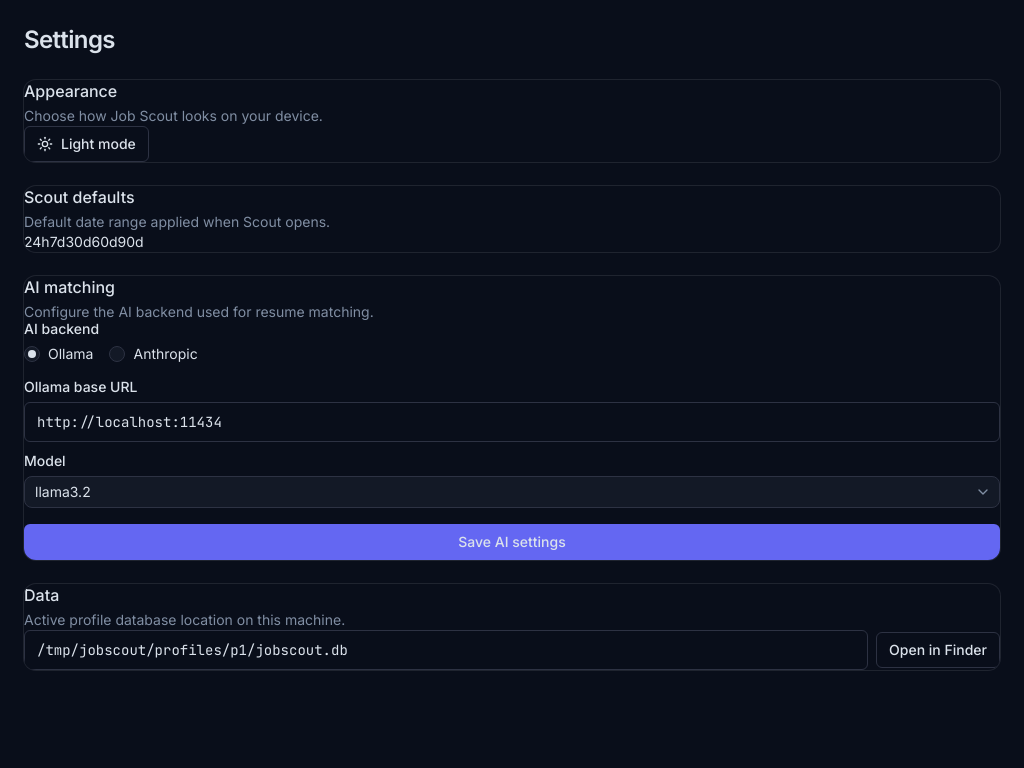
it: SettingsScreen › hides Ollama fields when backend is anthropic
The width and height of the screenshot is (1024, 768).
Check: the field labelled "Ollama base URL" is shown, box [24,402,1000,442]
Click the radio button named "Anthropic" next to "Anthropic": (118, 354) [110,346,126,362]
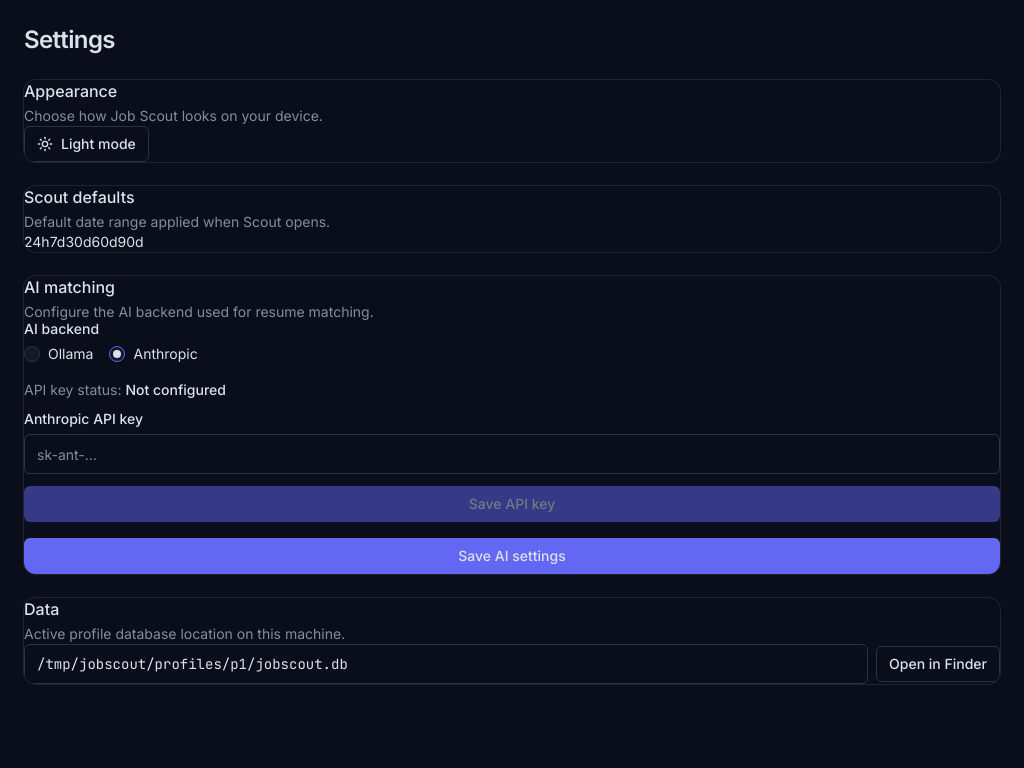
Check: the label labelled "Ollama base URL" is gone
Check: the label labelled "Model" is gone
Check: the password field labelled "Anthropic API key" is shown, box [24,434,1000,474]
